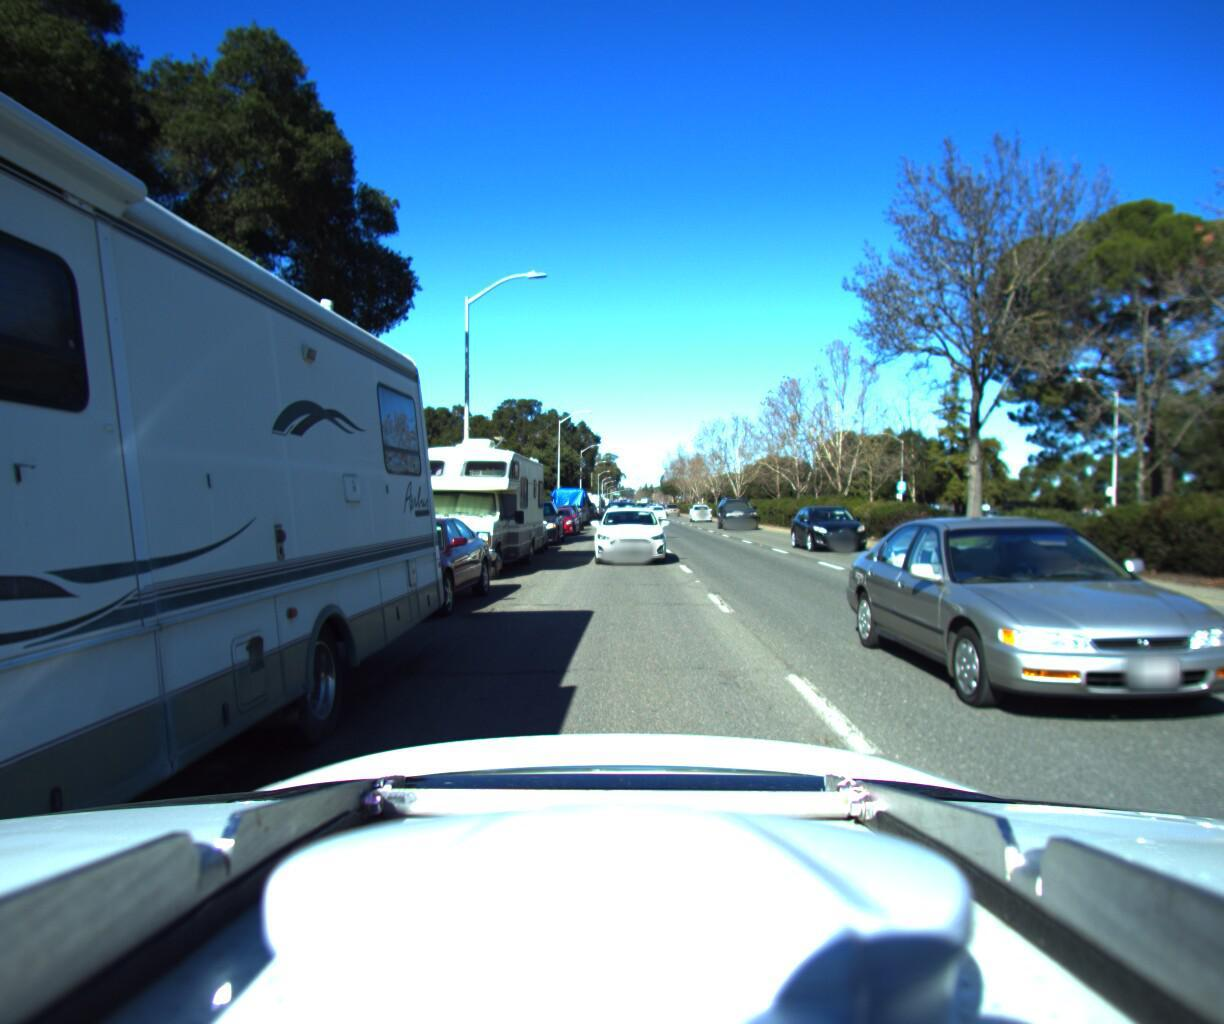car: (873, 491, 1224, 808), (292, 505, 505, 628), (792, 496, 894, 548), (597, 498, 672, 561), (498, 490, 569, 543), (487, 501, 555, 549), (539, 497, 582, 531), (720, 496, 764, 522), (688, 494, 715, 515), (613, 491, 635, 513), (645, 493, 667, 513)
other_vehicle: (378, 417, 555, 579), (546, 479, 589, 520), (573, 485, 601, 513)
